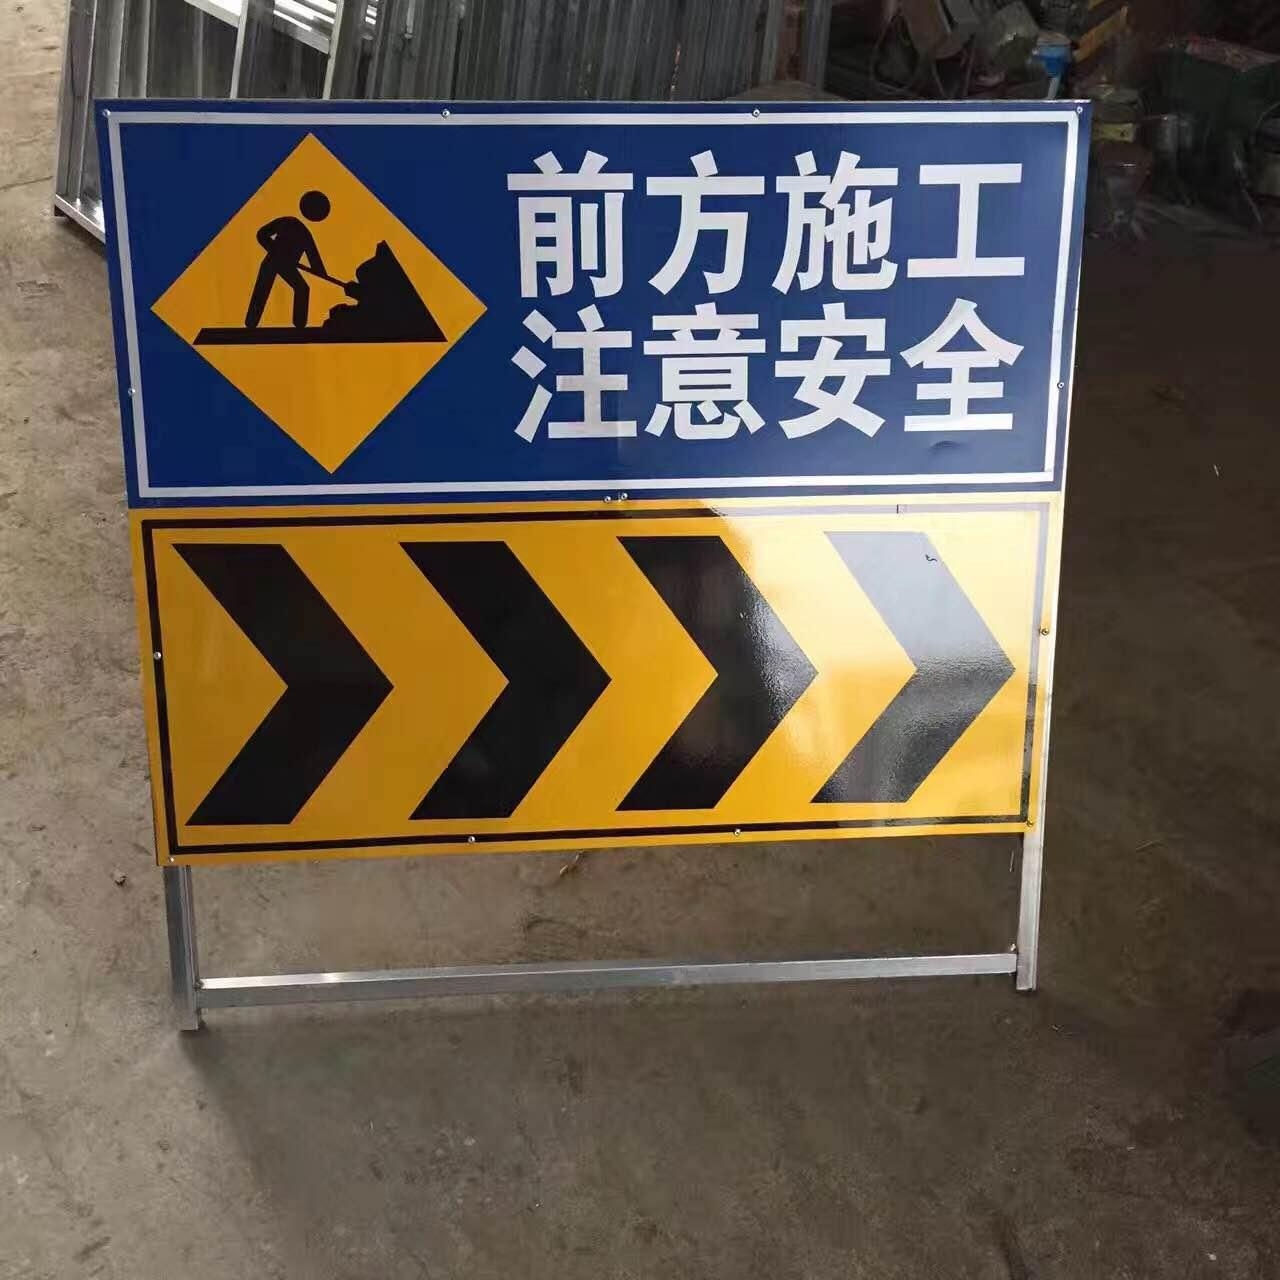sign: (110, 111, 1047, 968)
